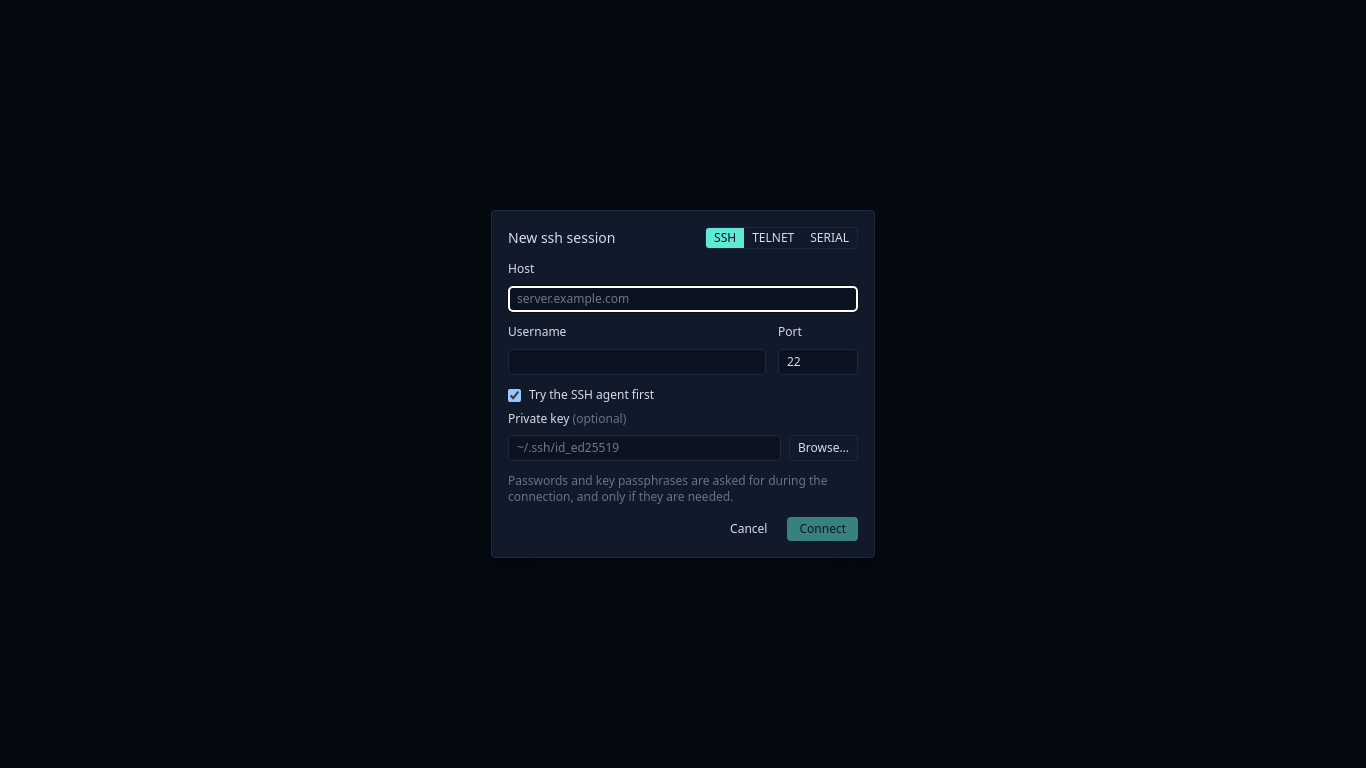
Test case: ConnectDialog › will not connect without a host and a user
The width and height of the screenshot is (1366, 768).
Expected: the button "Connect" is disabled, [788, 517, 858, 541]
In the field labelled "Host": (683, 299) [508, 286, 858, 312], type "example.com"
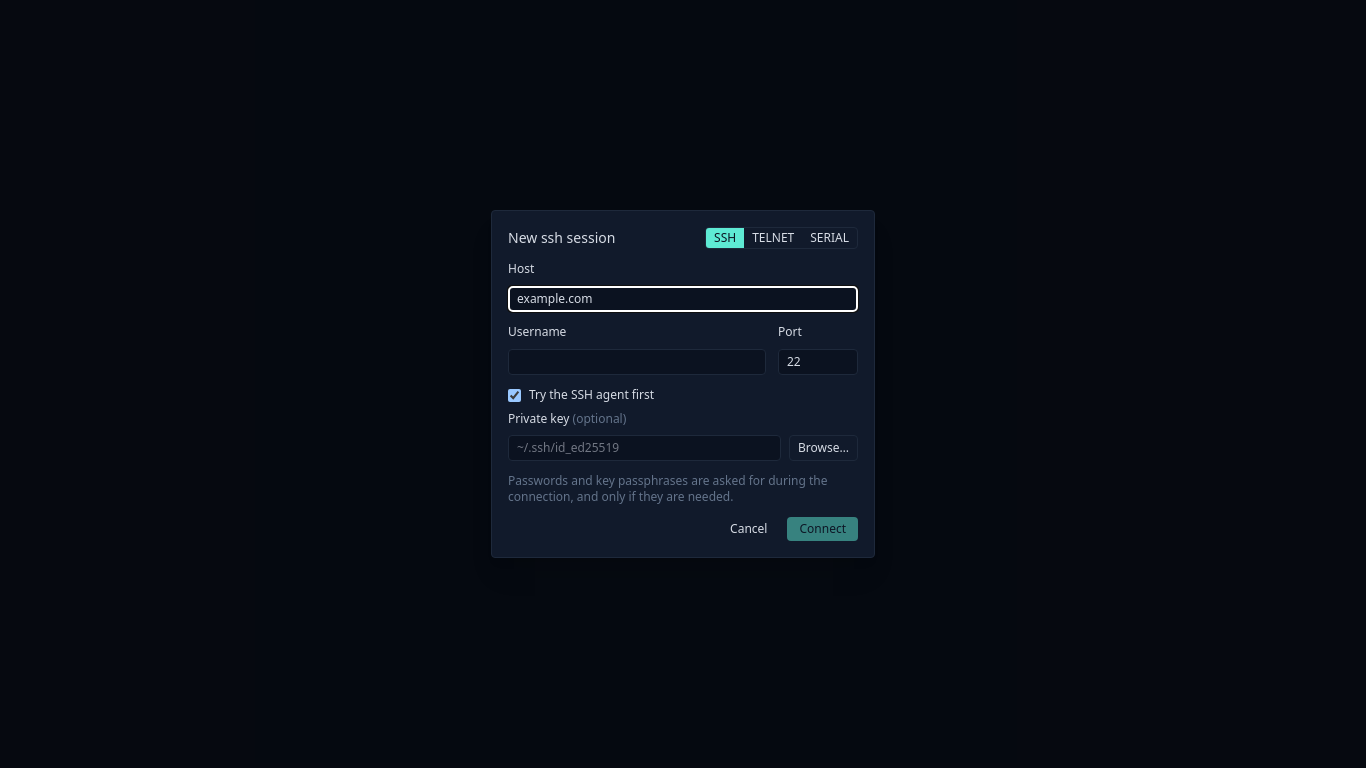
Expected: the button "Connect" is disabled, [788, 517, 858, 541]
In the field labelled "Username": (637, 362) [508, 349, 766, 375], type "deploy"
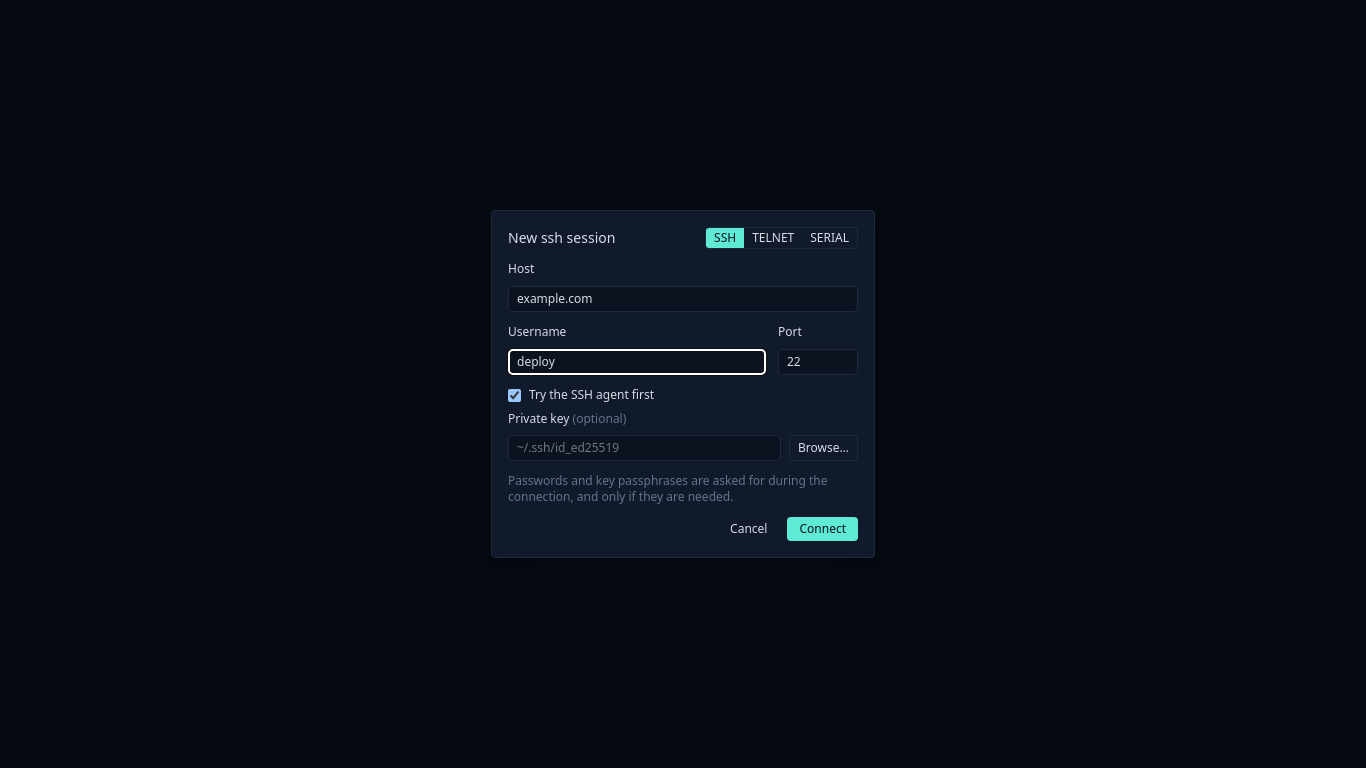
Expected: the button "Connect" is enabled, [788, 517, 858, 541]
